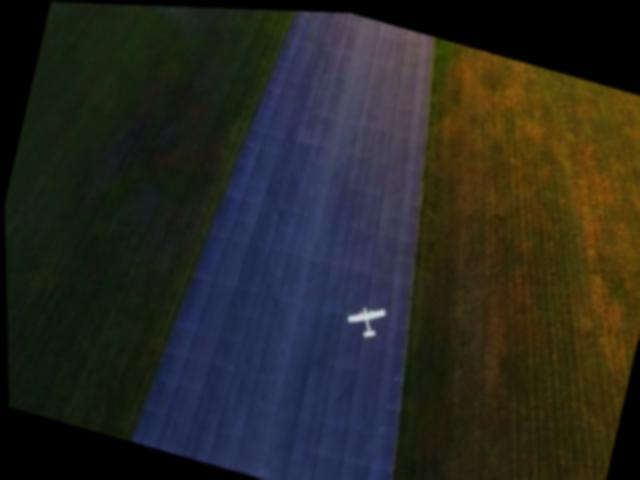uav: (341, 296, 387, 342)
